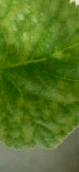Tomato leaf mosaic virus: (0, 0, 79, 146)
